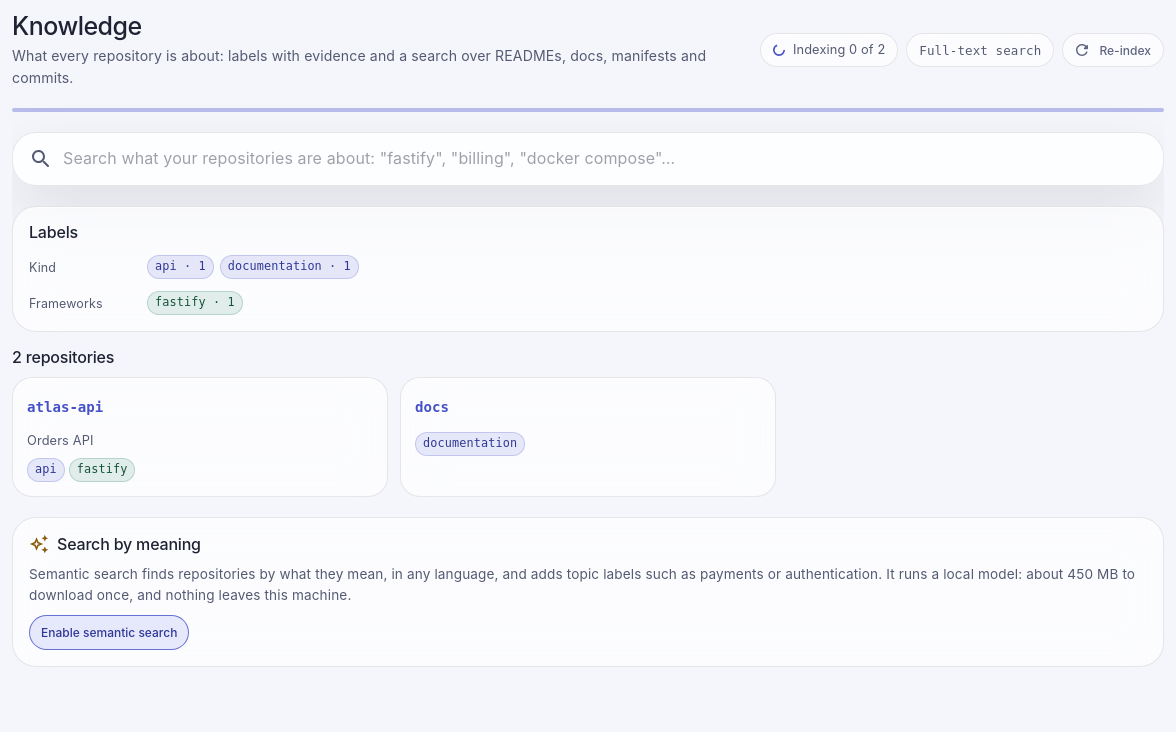
Test case: KnowledgePage › re-indexes on request, indexes an empty workspace on the first visit and enables semantic search
This screenshot has width=1176, height=732.
Expected: the text "Indexing 0 of 2" is shown, [760, 33, 898, 67]
Expected: the progress indicator named "Indexing progress" is shown, [12, 108, 1164, 112]
Click the button "Enable semantic search": [109, 633] box [29, 615, 189, 650]
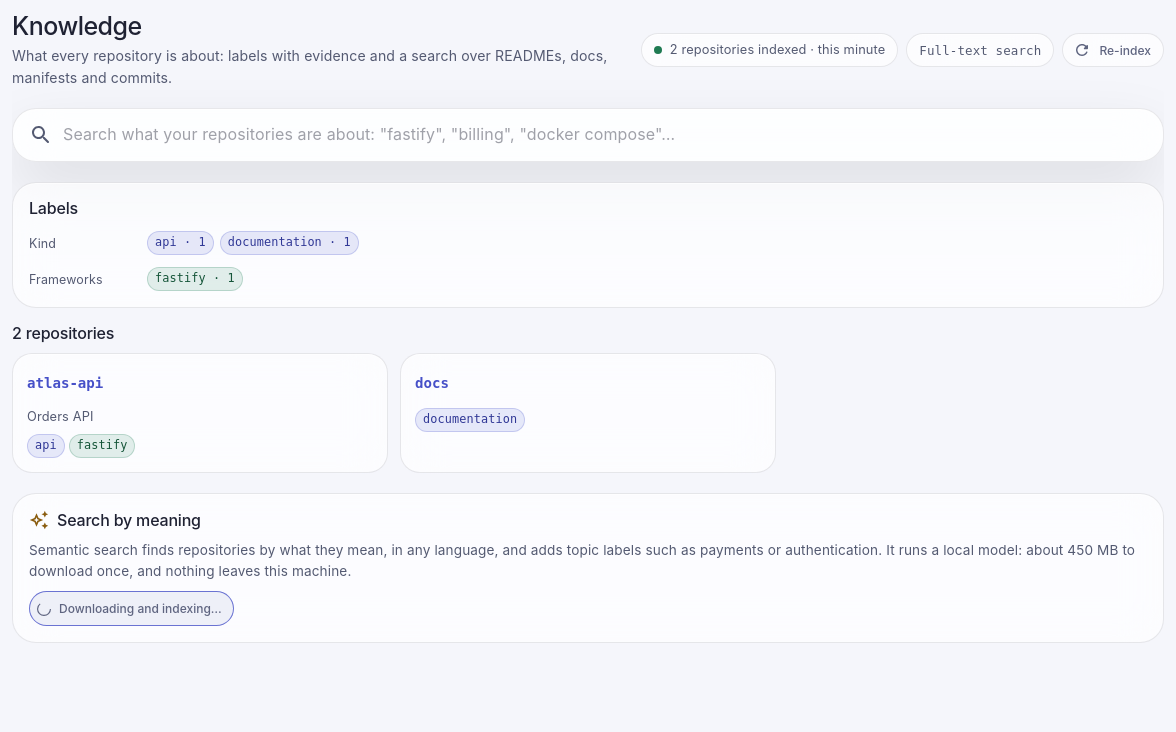
Expected: the button "Downloading and indexing…" is disabled, [29, 591, 234, 626]
